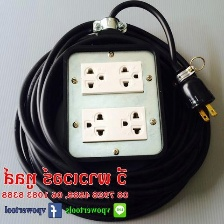three_eye_plug: (61, 45, 166, 164)
